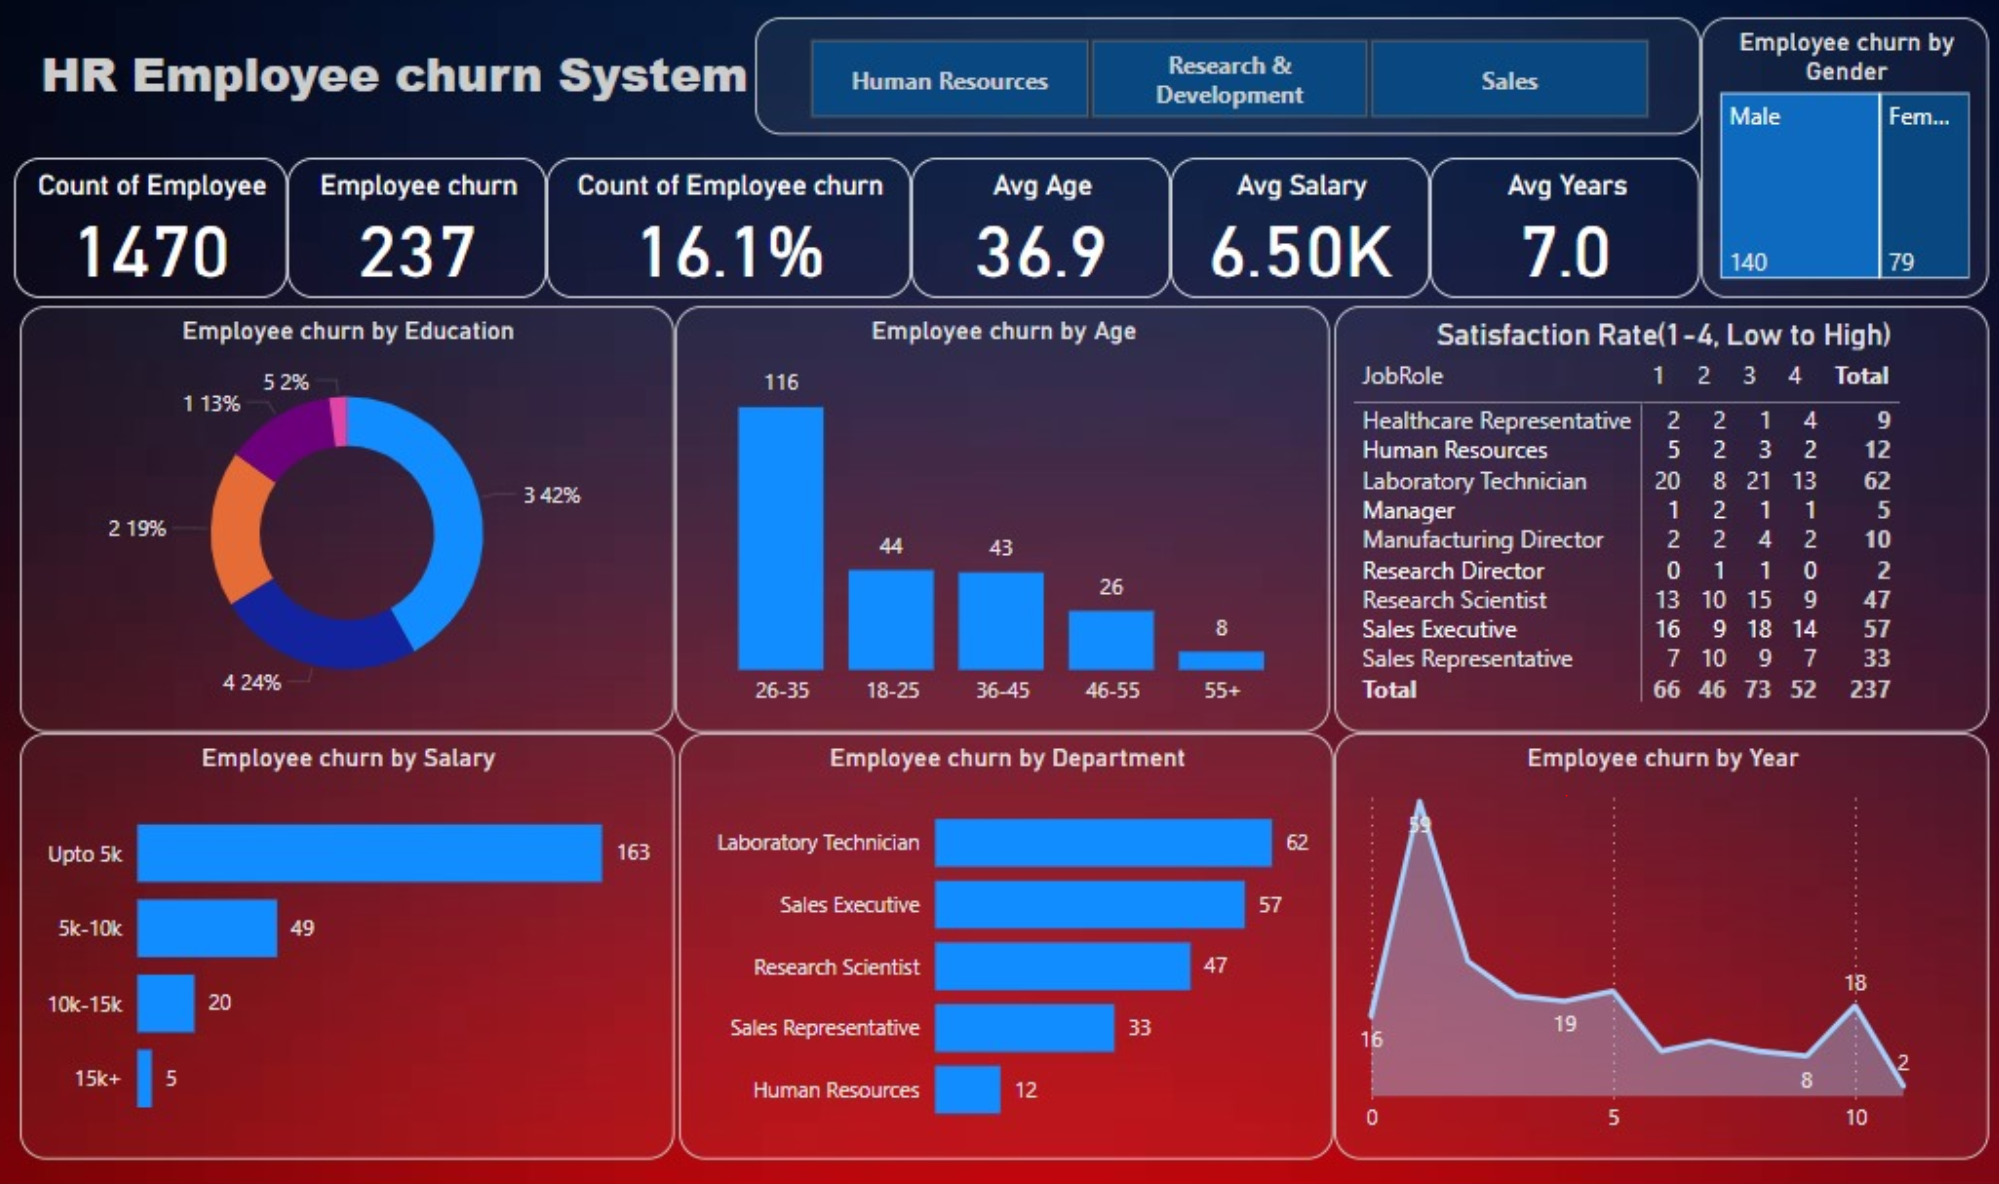

The dashboard page shown, as its layout file describes it:
{"tool":"powerbi","page":{"name":"Page 1","canvas":[1280,720],"ordinal":0},"visuals":[{"type":"card","title":"Count of Employee","fields":{"Values":["CountNonNull(HR_Analytics_a.EmpID)"]},"box":[58.9,134.4,155.6,80],"z":0},{"type":"card","title":"Employee churn","fields":{"Values":["Sum(HR_Analytics_a.AttritionCount)"]},"box":[214.4,134.4,147.8,80],"z":1000},{"type":"card","title":"Avg Age","fields":{"Values":["Avg(HR_Analytics_a.Age)"]},"box":[570,134.4,147.8,80],"z":2000},{"type":"card","title":"Employee churn rate","fields":{"Values":["HR_Analytics_a.AttritionRate"]},"box":[362.2,134.4,207.8,80],"z":3000},{"type":"card","title":"Avg Salary","fields":{"Values":["Avg(HR_Analytics_a.MonthlyIncome)"]},"box":[717.8,134.4,147.8,80],"z":4000},{"type":"card","title":"Avg Years","fields":{"Values":["Avg(HR_Analytics_a.YearsAtCompany)"]},"box":[865.6,134.4,154.4,80],"z":5000},{"type":"donutChart","title":"Employee churn by Education","fields":{"Category":["HR_Analytics_a.EducationField"],"Y":["Sum(HR_Analytics_a.AttritionCount)"]},"box":[811.7,462.5,373,242.4],"z":6000},{"type":"columnChart","title":"Employee churn by Age","fields":{"Category":["HR_Analytics_a.AgeGroup"],"Y":["Sum(HR_Analytics_a.AttritionCount)"]},"box":[64.9,218.6,373,243.9],"z":7000},{"type":"pivotTable","title":"Satisfaction Rate(1-4, Low to High)","fields":{"Rows":["HR_Analytics_a.JobRole"],"Columns":["HR_Analytics_a.JobSatisfaction"],"Values":["Sum(HR_Analytics_a.AttritionCount)"]},"box":[811,219,372.9,242.9],"z":8000},{"type":"barChart","title":"Employee churn by Salary","fields":{"Category":["HR_Analytics_a.SalarySlab"],"Y":["Sum(HR_Analytics_a.AttritionCount)"]},"box":[438,461.8,373,243.2],"z":9000},{"type":"barChart","title":"Employee churn by Department ","fields":{"Category":["HR_Analytics_a.JobRole"],"Y":["Sum(HR_Analytics_a.AttritionCount)"]},"box":[64.9,461.8,373,243.2],"z":10000},{"type":"areaChart","title":"Employee churn by Year","fields":{"Category":["HR_Analytics_a.YearsAtCompany"],"Y":["Sum(HR_Analytics_a.AttritionCount)"]},"box":[438,219.3,373,243.2],"z":11000},{"type":"treemap","title":"Employee churn by Gender","fields":{"Group":["HR_Analytics_a.Gender"],"Values":["Sum(HR_Analytics_a.AttritionCount)"]},"box":[1057.8,54.1,127,160.2],"z":12000},{"type":"slicer","fields":{"Values":["HR_Analytics_a.Department"]},"box":[570,54.1,450.2,61.3],"z":13000},{"type":"textbox","box":[56.7,62.2,437.8,58.9],"z":14000}]}

Visuals, with their boxes in screenshot pixels (x1, y1, x2, y2):
"Count of Employee" card: <box>68,199,316,327</box>
"Employee churn" card: <box>316,199,552,327</box>
"Avg Age" card: <box>884,199,1120,327</box>
"Employee churn rate" card: <box>552,199,884,327</box>
"Avg Salary" card: <box>1120,199,1356,327</box>
"Avg Years" card: <box>1356,199,1603,327</box>
"Employee churn by Education" donutChart: <box>1270,723,1866,1110</box>
"Employee churn by Age" columnChart: <box>78,333,673,723</box>
"Satisfaction Rate(1-4, Low to High)" pivotTable: <box>1269,334,1864,722</box>
"Employee churn by Salary" barChart: <box>673,722,1269,1110</box>
"Employee churn by Department " barChart: <box>78,722,673,1110</box>
"Employee churn by Year" areaChart: <box>673,335,1269,723</box>
"Employee churn by Gender" treemap: <box>1663,71,1866,327</box>
slicer - HR_Analytics_a.Department: <box>884,71,1603,169</box>
textbox: <box>65,84,764,178</box>
